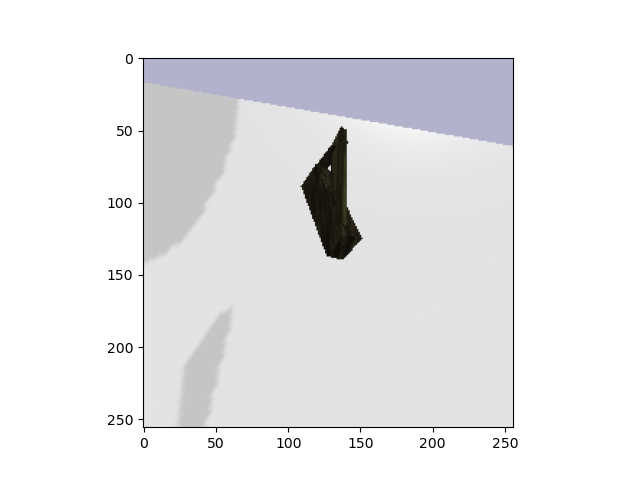v249b387_109: (290, 125, 369, 262)
